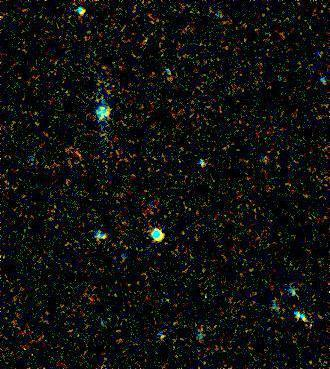star: (91, 92, 121, 122)
